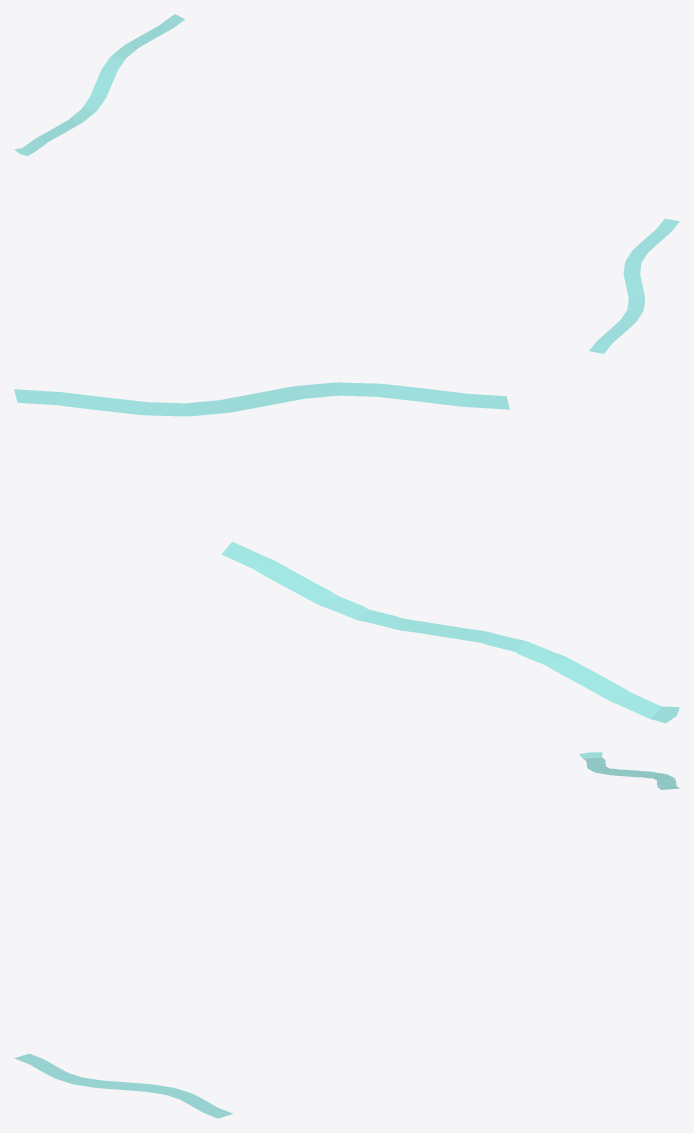
Rendered from run_slide_water.glb.
The picture shows the model from 3 angles, top to bottom: view 1: azimuth 30°, elevation 25°; view 2: azimuth 150°, elevation 25°; view 3: azimuth 270°, elevation 25°; orthographic projection. The views are drawn at different scales.
Visible parts, largest first — view 1: run_slide_water; view 2: run_slide_water; view 3: run_slide_water.
Part boxes in pixels (x1,y1,x2,y2): run_slide_water: (14, 14, 679, 353); run_slide_water: (14, 382, 679, 723); run_slide_water: (14, 752, 679, 1118).
Bounding box in the file's own units: 165 × 51.66 × 164.
